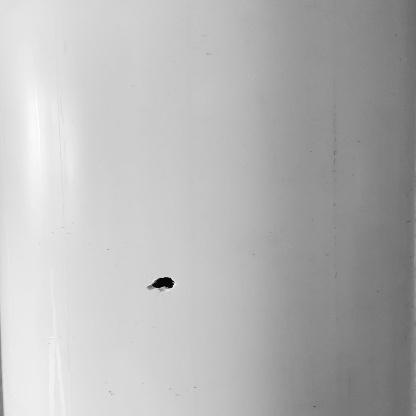kongdong: (148, 278, 177, 291)
